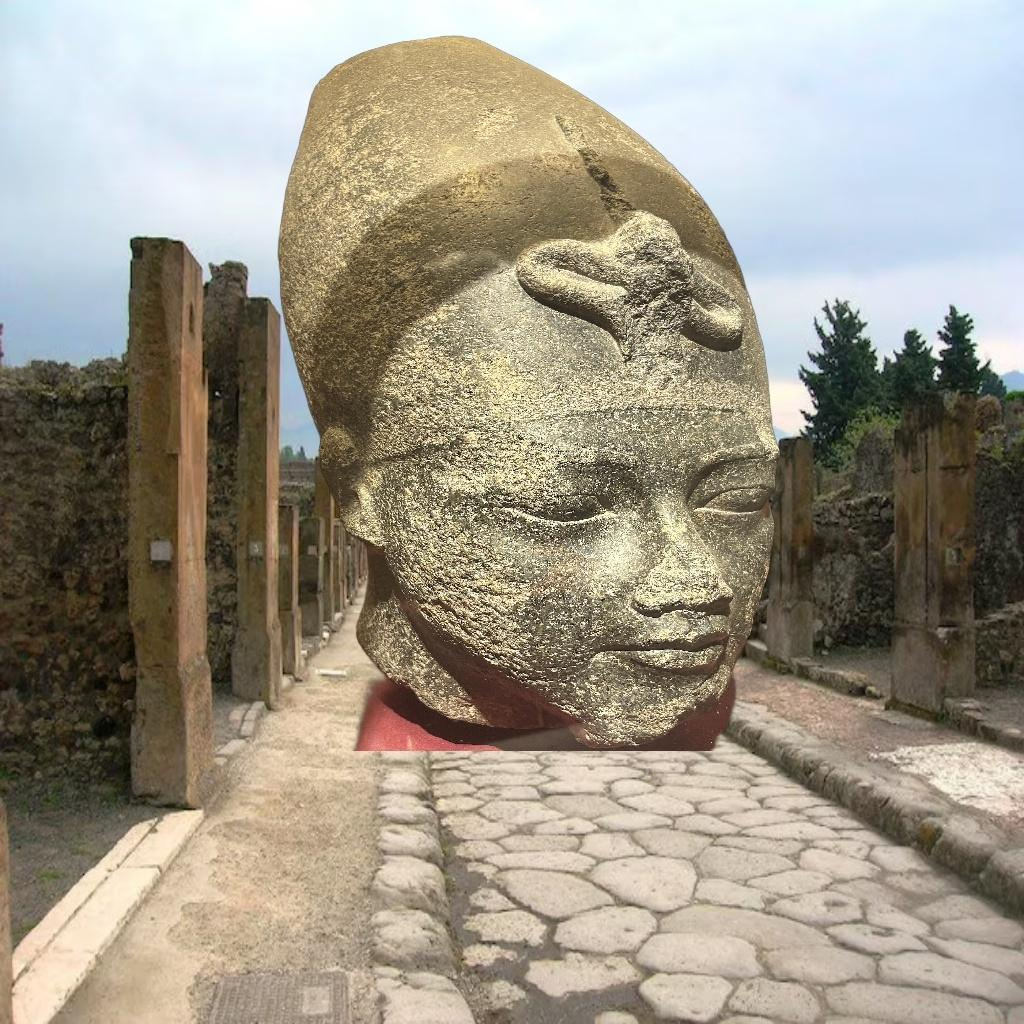Head Statue of Amenhotep III: (278, 35, 786, 751)
